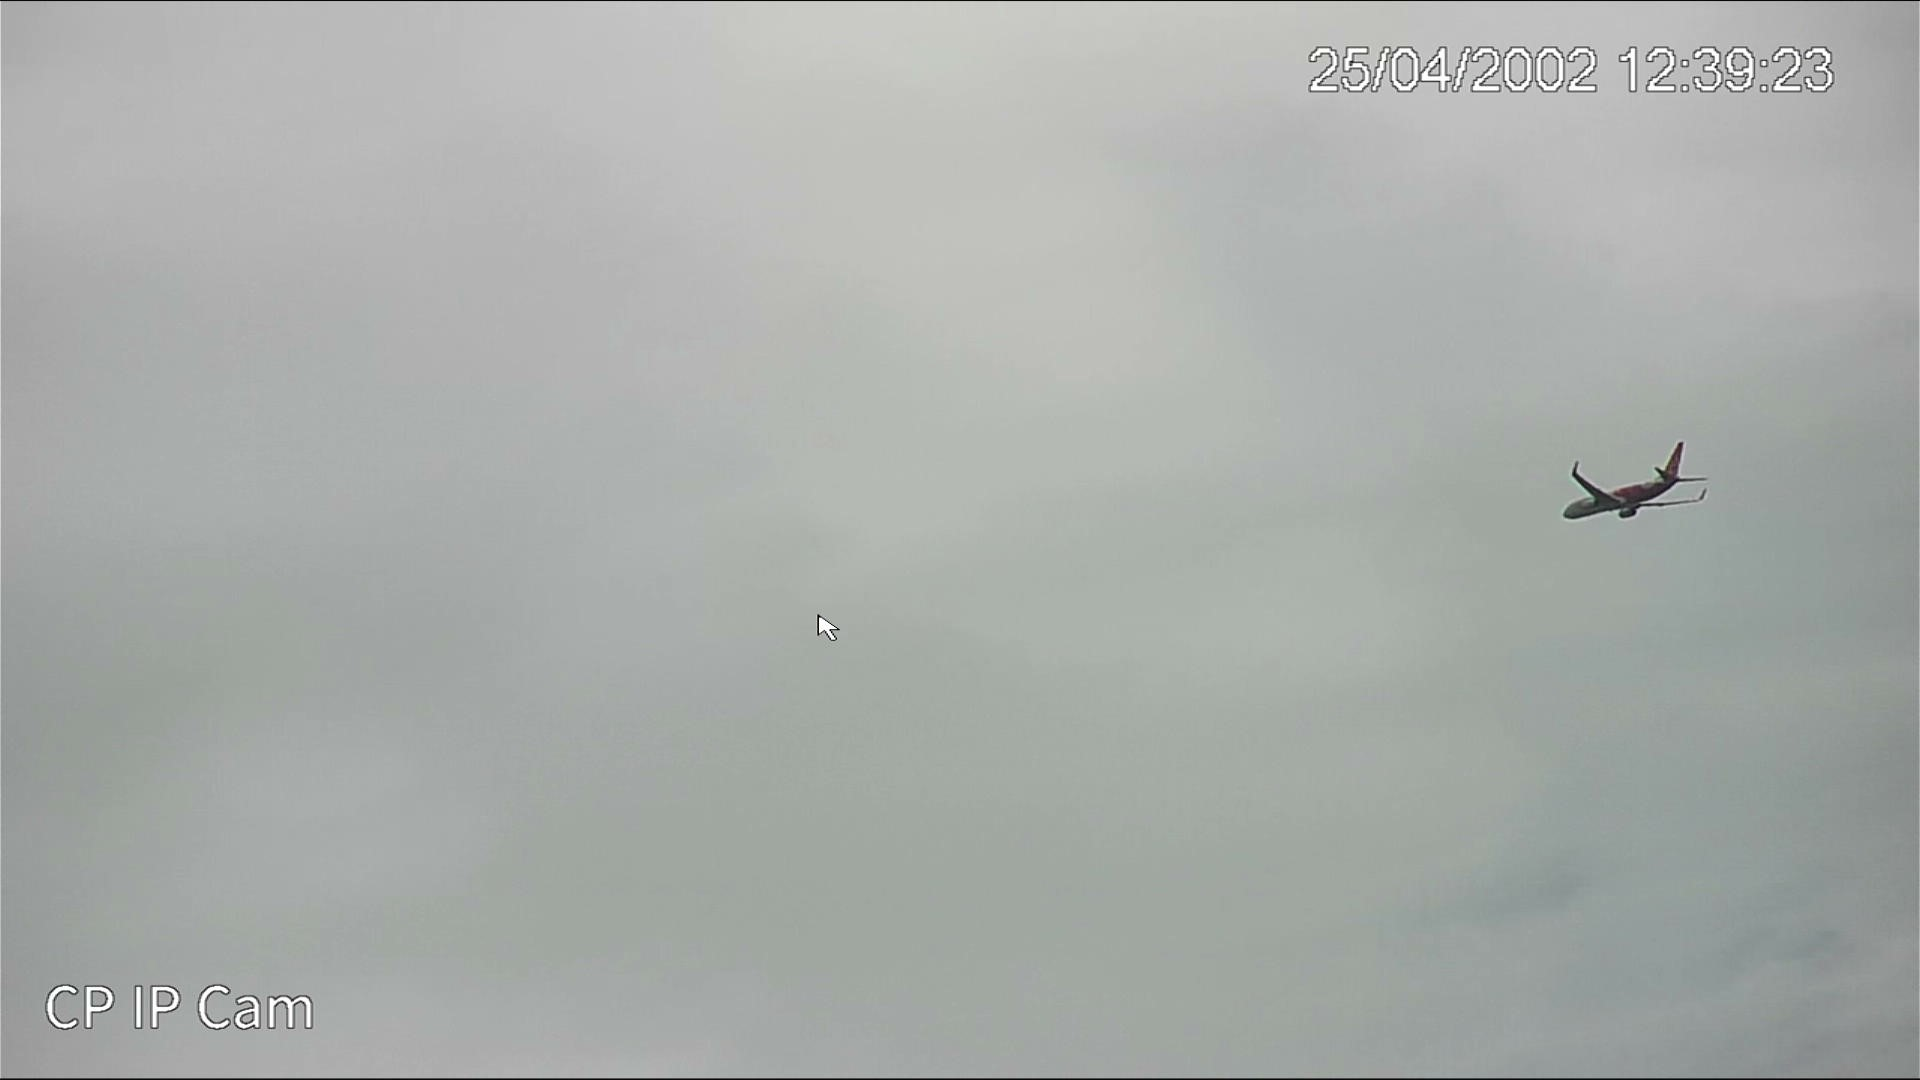SU_30: (1567, 440, 1709, 521)
